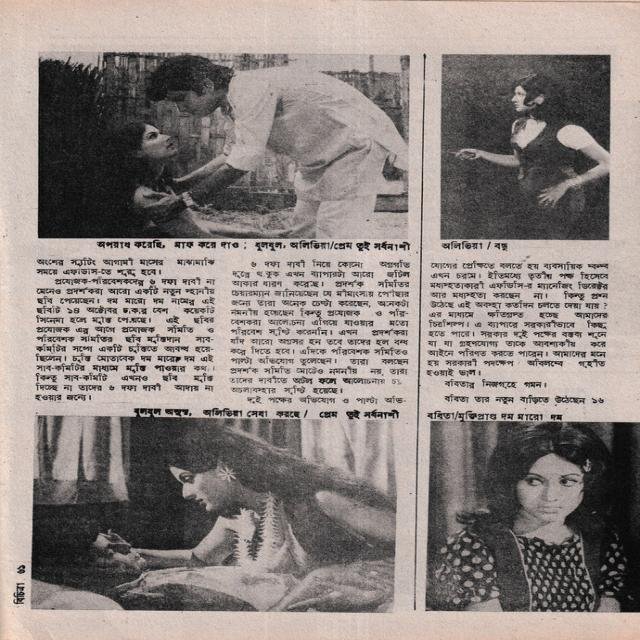caption: (123, 404, 400, 419), (96, 239, 410, 252), (425, 409, 565, 421), (442, 240, 509, 251)
image: (28, 412, 402, 615), (35, 49, 412, 241), (423, 420, 640, 615), (437, 52, 615, 241)
page number: (11, 561, 28, 577)
paragraph: (223, 257, 413, 396), (34, 275, 217, 403), (425, 259, 610, 381), (442, 377, 609, 406), (26, 256, 218, 277), (246, 395, 408, 405)
text: (10, 581, 28, 607)
